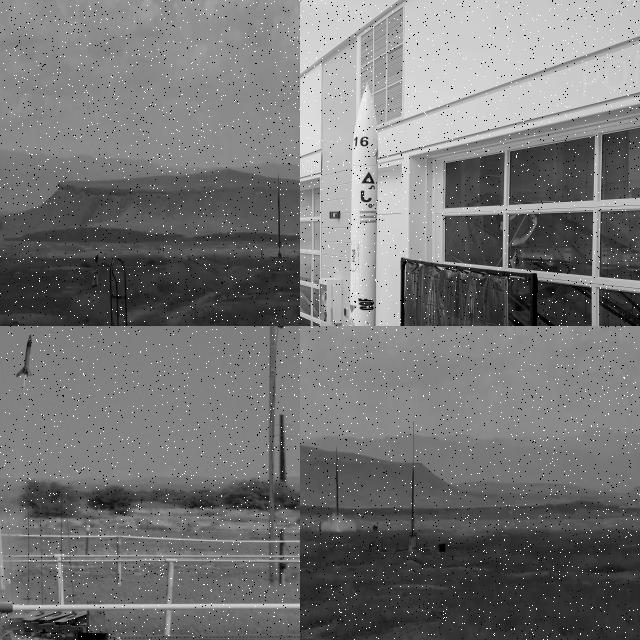Rocket: (350, 82, 378, 326), (14, 332, 36, 378), (277, 180, 282, 248), (336, 446, 340, 524), (412, 467, 414, 529)
